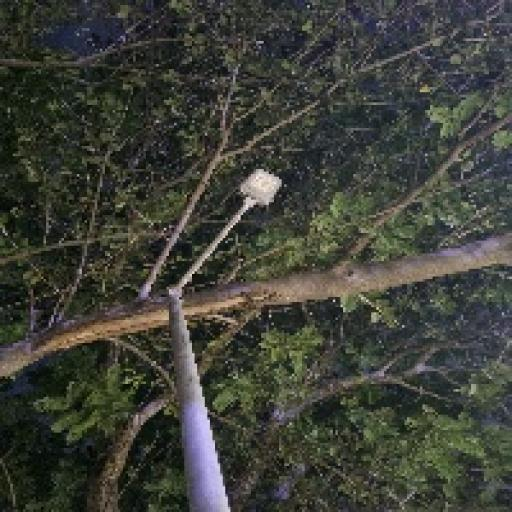Not Working: (220, 161, 293, 218)
